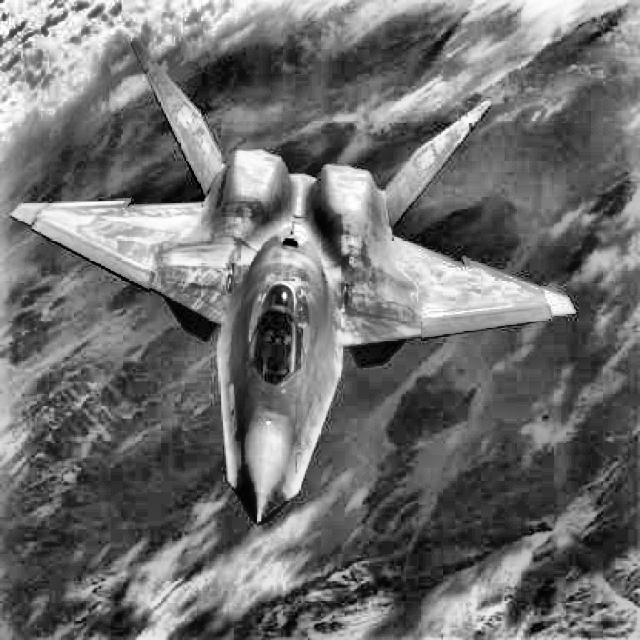YF23: (9, 37, 576, 525)
